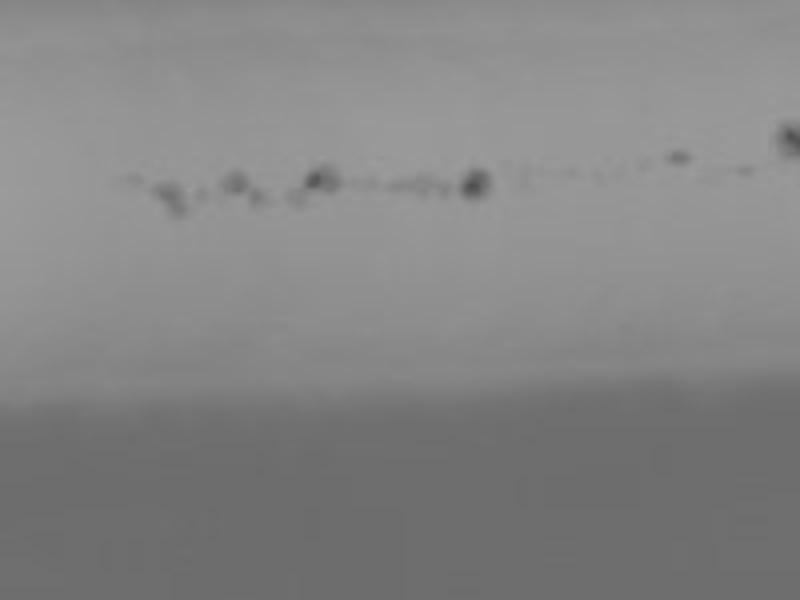defect: (386, 171, 447, 199), (301, 161, 341, 194), (149, 185, 185, 220), (771, 115, 798, 156), (460, 171, 490, 205), (218, 171, 250, 192), (285, 188, 310, 206), (670, 151, 693, 169), (119, 173, 143, 189), (246, 190, 268, 206), (191, 187, 209, 202), (734, 162, 751, 176)
